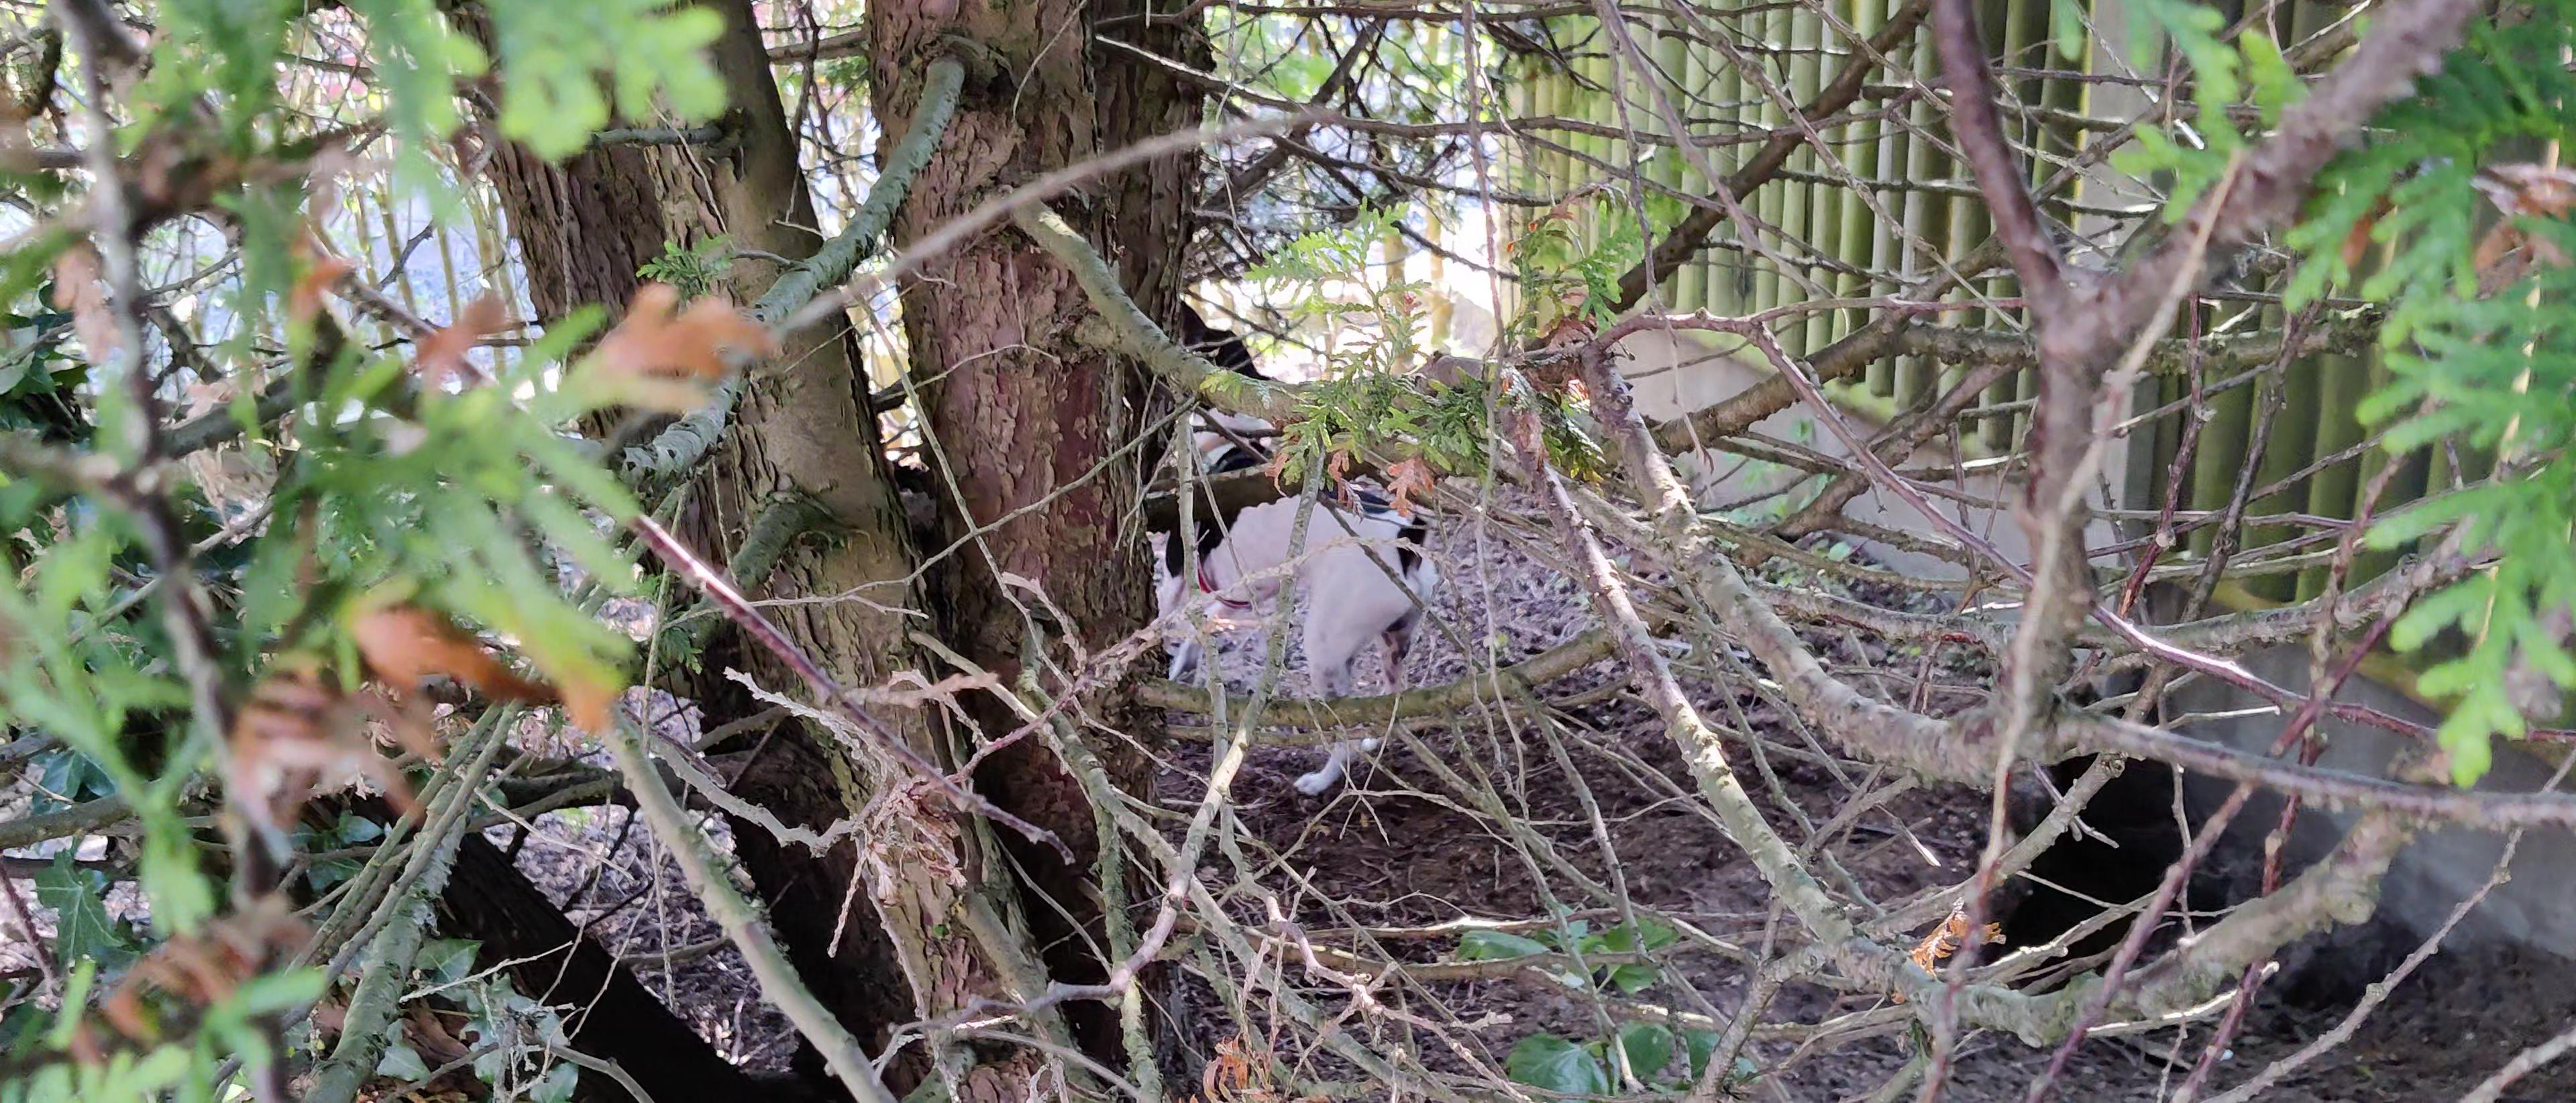Dog: (1122, 270, 1470, 796)
